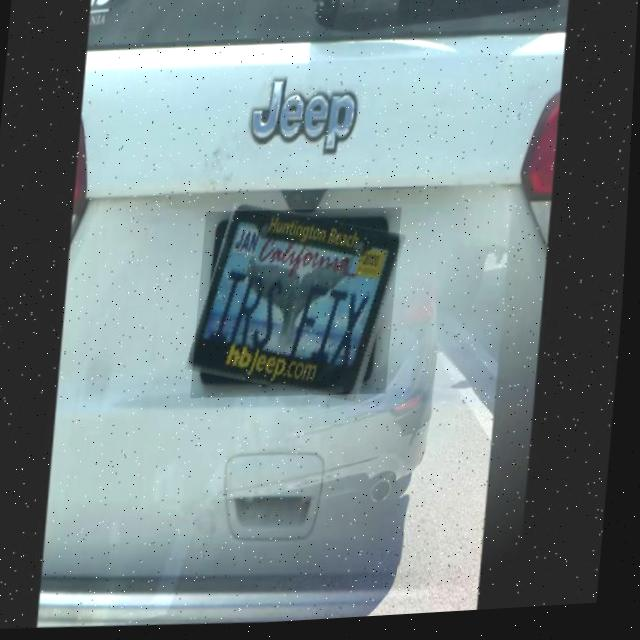LicensePlate: (194, 205, 404, 407)
